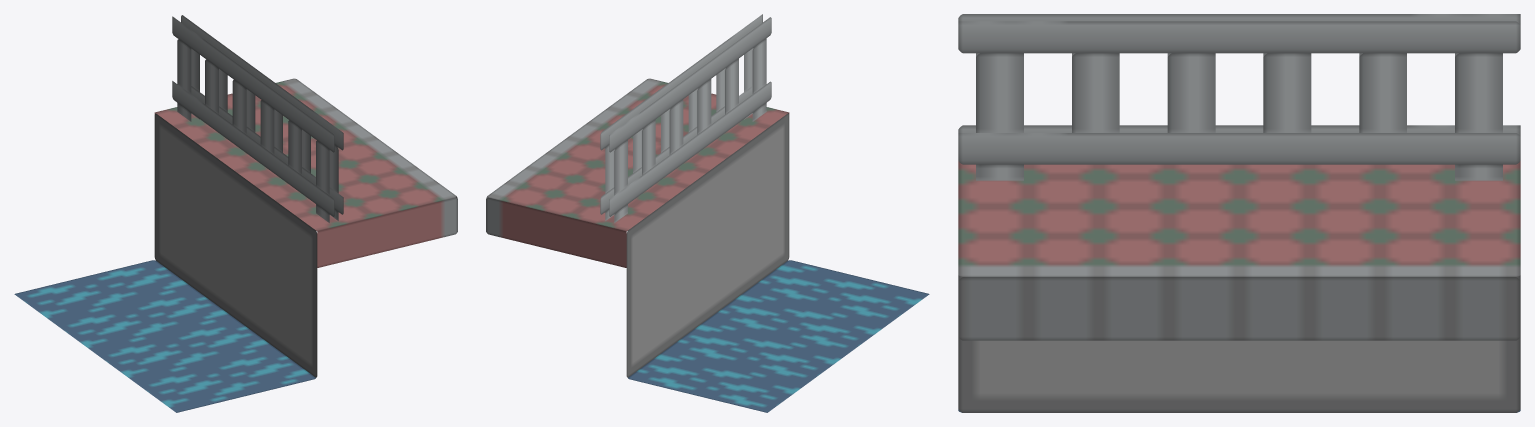
File: Lake Side.fbx
3 views of the same model, side by side, from view 1: azimuth 30°, elevation 25°; view 2: azimuth 150°, elevation 25°; view 3: azimuth 270°, elevation 25° (orthographic). The views are drawn at different scales.
Parts seen in each view (by area): view 1: plane, SideRoad, plane_2, plane_1; view 2: plane, SideRoad, plane_2, plane_1; view 3: SideRoad, plane_1, plane, plane_2.
Boxes of the visible parts, bbox=[...] form: plane: bbox=[14, 113, 317, 412]; SideRoad: bbox=[154, 78, 457, 267]; plane_2: bbox=[172, 16, 334, 222]; plane_1: bbox=[181, 15, 343, 220]; plane: bbox=[626, 113, 929, 412]; SideRoad: bbox=[486, 78, 789, 267]; plane_2: bbox=[609, 17, 771, 222]; plane_1: bbox=[600, 14, 762, 220]; SideRoad: bbox=[958, 161, 1520, 340]; plane_1: bbox=[958, 21, 1520, 180]; plane: bbox=[958, 275, 1520, 412]; plane_2: bbox=[958, 14, 1520, 136].
Size of the model in its own units: 200 by 163 by 200.
2 materials, 2 textured.
